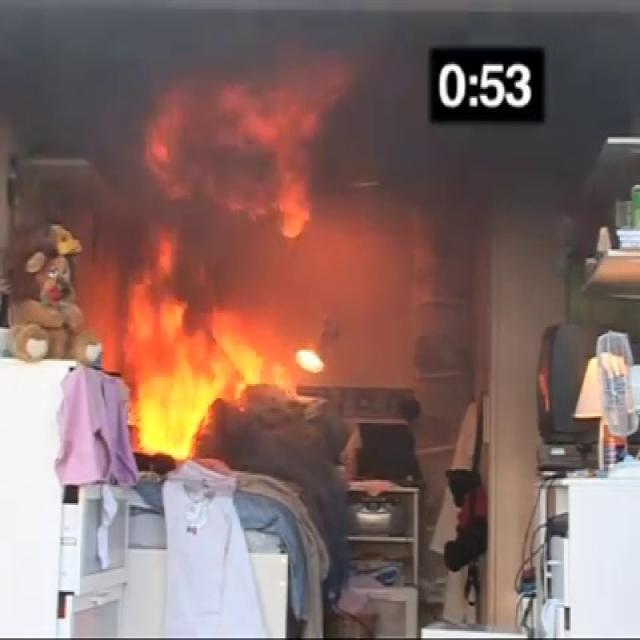Fire: (126, 240, 296, 460), (176, 87, 337, 239)
Smoke: (345, 79, 458, 374), (1, 3, 137, 183), (370, 114, 562, 224), (548, 20, 640, 146)
